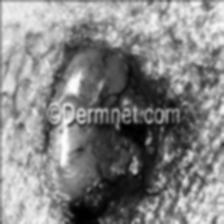Potentially Malignant Skin Tumors: (42, 41, 156, 224)
